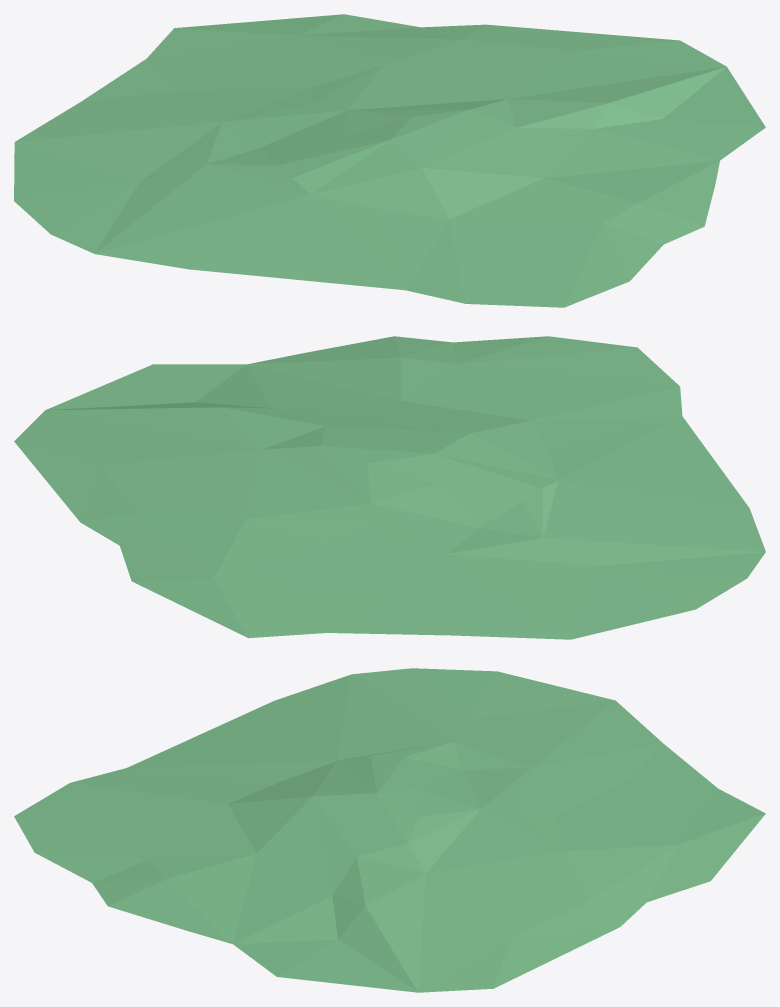
File: GrassPatchLarge_03.glb
The picture shows the model from 3 angles, top to bottom: view 1: azimuth 30°, elevation 25°; view 2: azimuth 150°, elevation 25°; view 3: azimuth 270°, elevation 25°; orthographic projection. The views are drawn at different scales.
Parts seen in each view (by area): view 1: GrassPatchLarge_03; view 2: GrassPatchLarge_03; view 3: GrassPatchLarge_03.
Boxes of the visible parts, box(x1,y1,x2,y2) form: GrassPatchLarge_03: box(14, 14, 765, 307); GrassPatchLarge_03: box(14, 336, 765, 639); GrassPatchLarge_03: box(14, 668, 765, 992).
Size of what is drawn, in the model's own units: 6.44 by 0.2673 by 6.3.
Materials: 1 (1 with a texture image).
